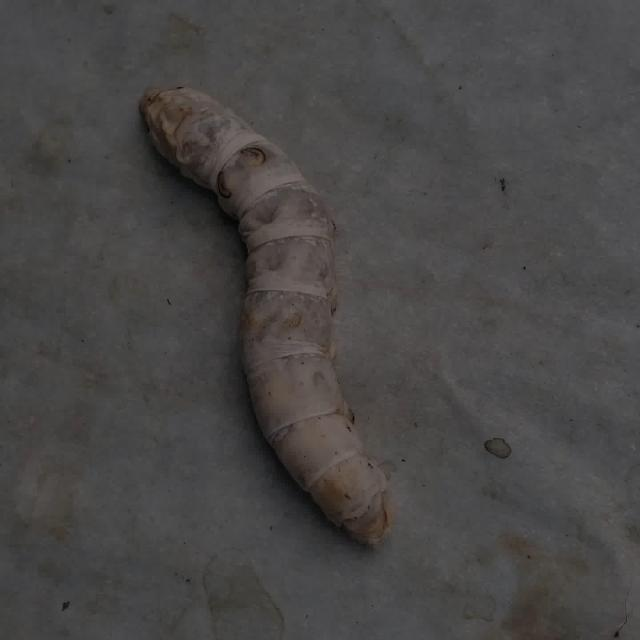Grasserie: (136, 74, 410, 558)
